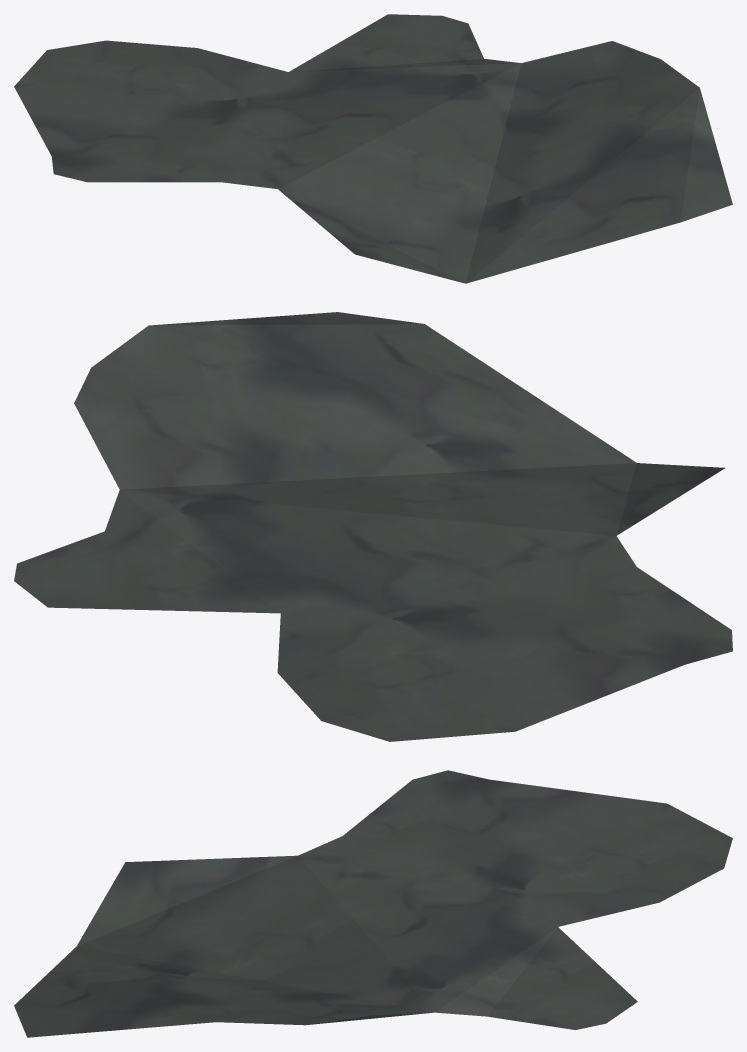
File: Ridge_3_Top.gltf
The picture shows the model from 3 angles, top to bottom: view 1: azimuth 30°, elevation 25°; view 2: azimuth 150°, elevation 25°; view 3: azimuth 270°, elevation 25°; orthographic projection. The views are drawn at different scales.
Visible parts, largest first — view 1: Ridge_3_Top; view 2: Ridge_3_Top; view 3: Ridge_3_Top.
Boxes of the visible parts, x1=… form: Ridge_3_Top: x1=14, y1=14, x2=732, y2=283; Ridge_3_Top: x1=14, y1=312, x2=732, y2=741; Ridge_3_Top: x1=14, y1=770, x2=732, y2=1037.
Size of the model in its own units: 42.88 by 5.77 by 45.19.
Materials: 1 (1 with a texture image).
